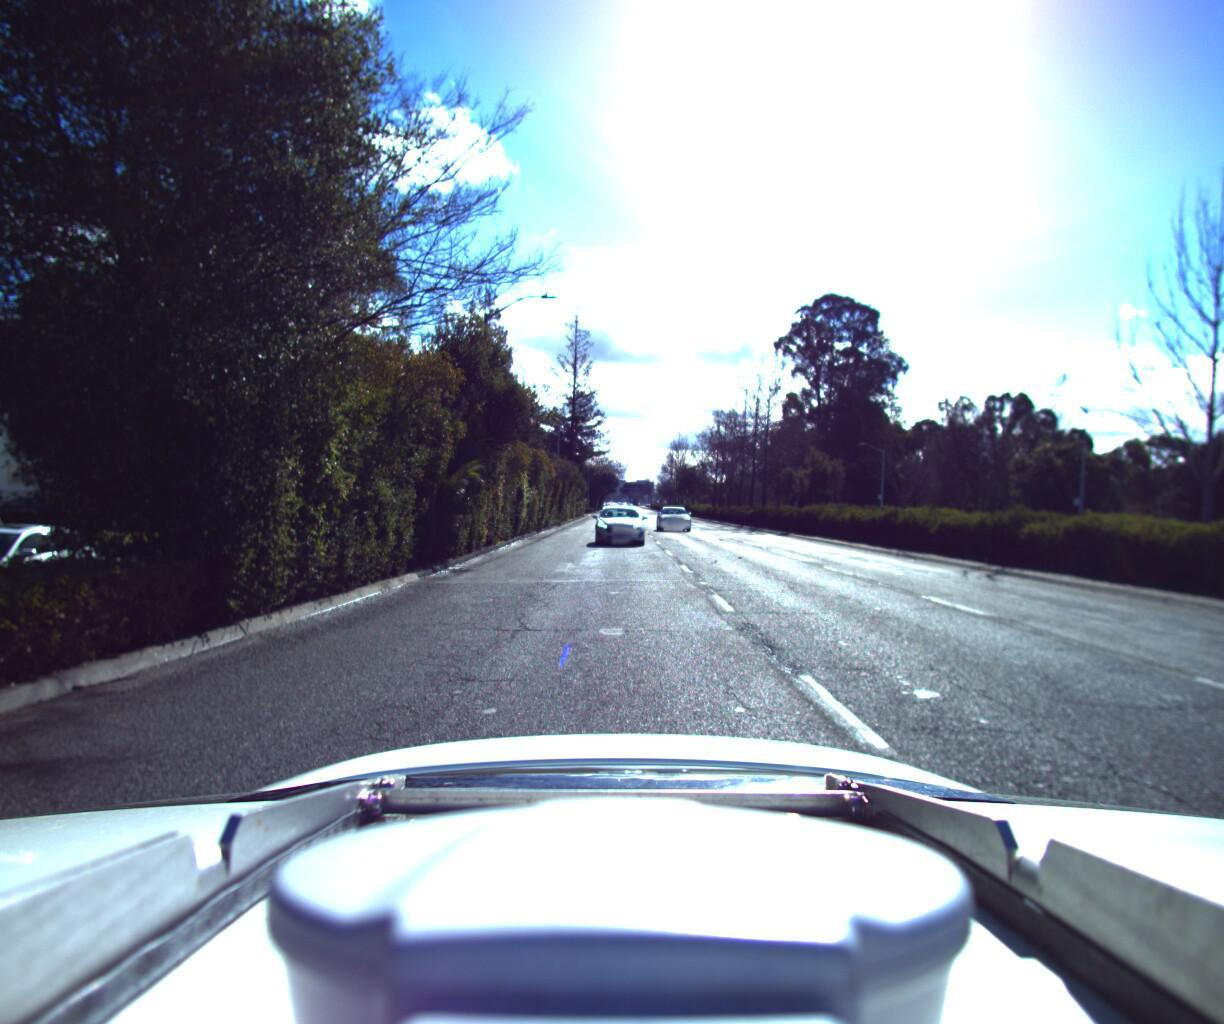car: (0, 516, 128, 655), (589, 497, 644, 541), (654, 501, 692, 532), (0, 488, 3, 547)
